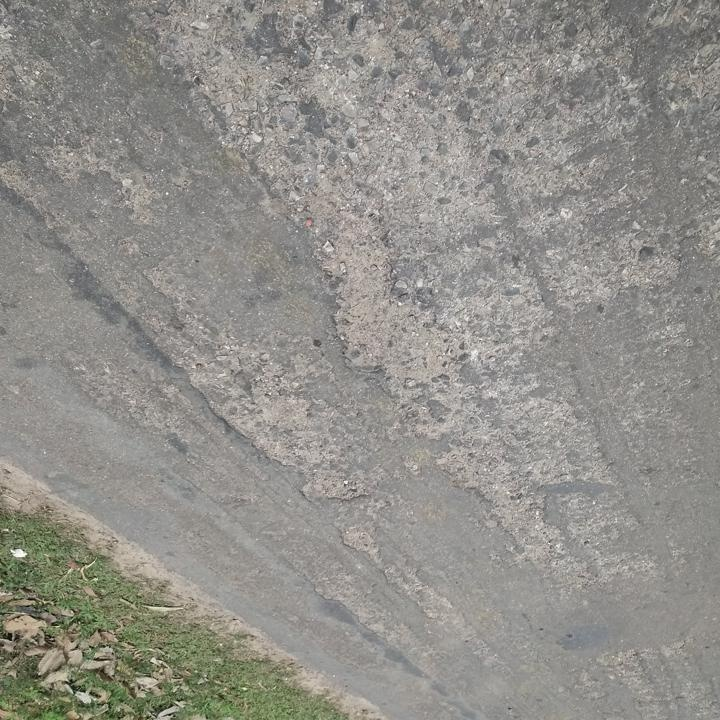pothole: (193, 360, 377, 509), (317, 234, 460, 398)
